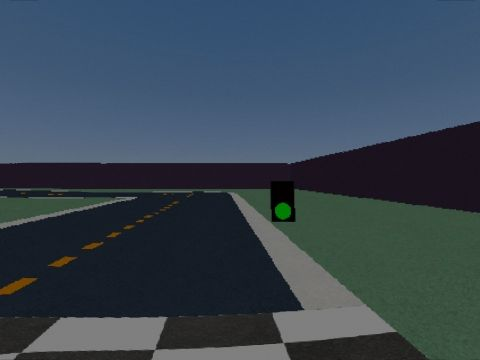green: (271, 181, 296, 222)
